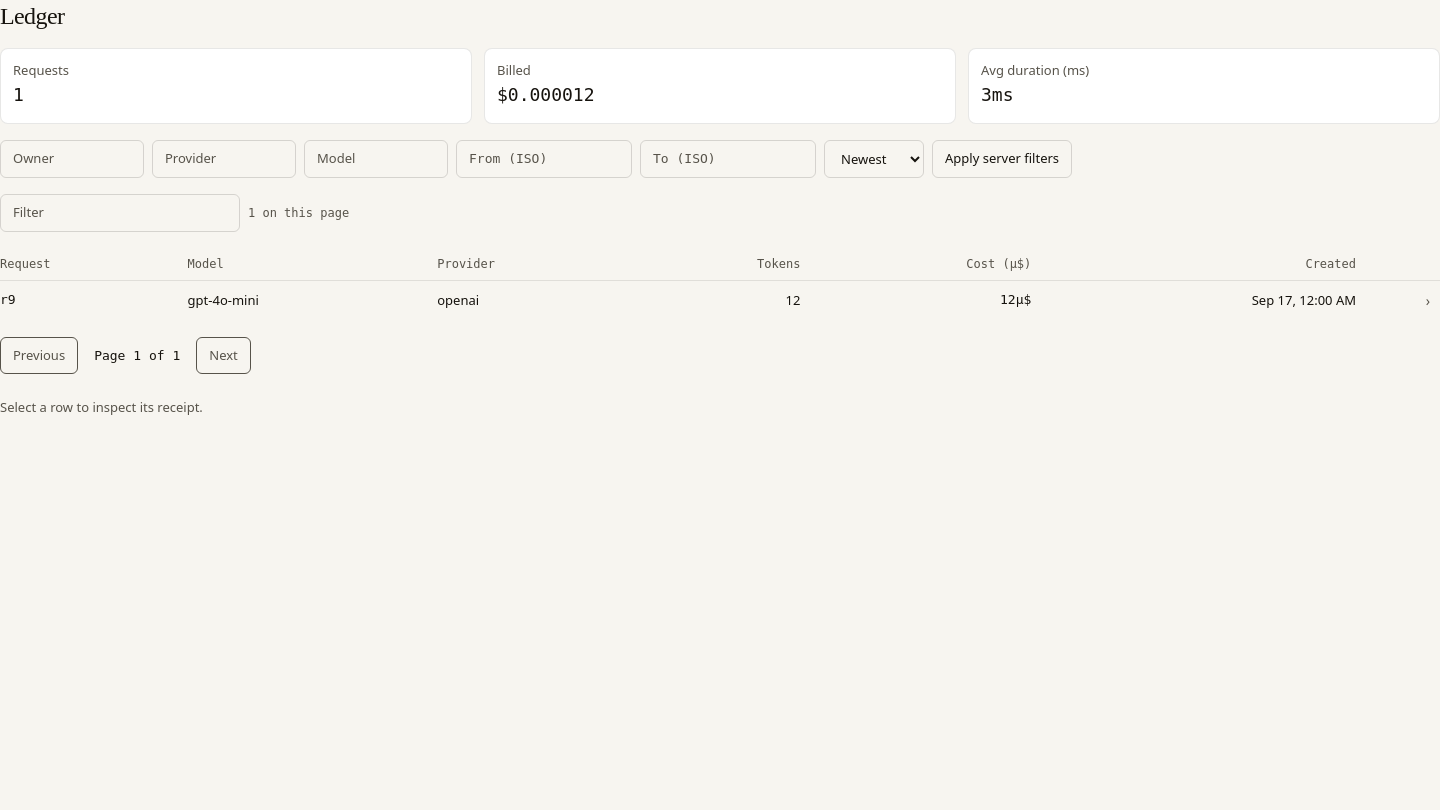
Scenario: LedgerPage › reports clipboard rejection inline
The width and height of the screenshot is (1440, 810).
Click the button named "inspect receipt r9".
click(1428, 300)  # box [1416,288,1439,312]
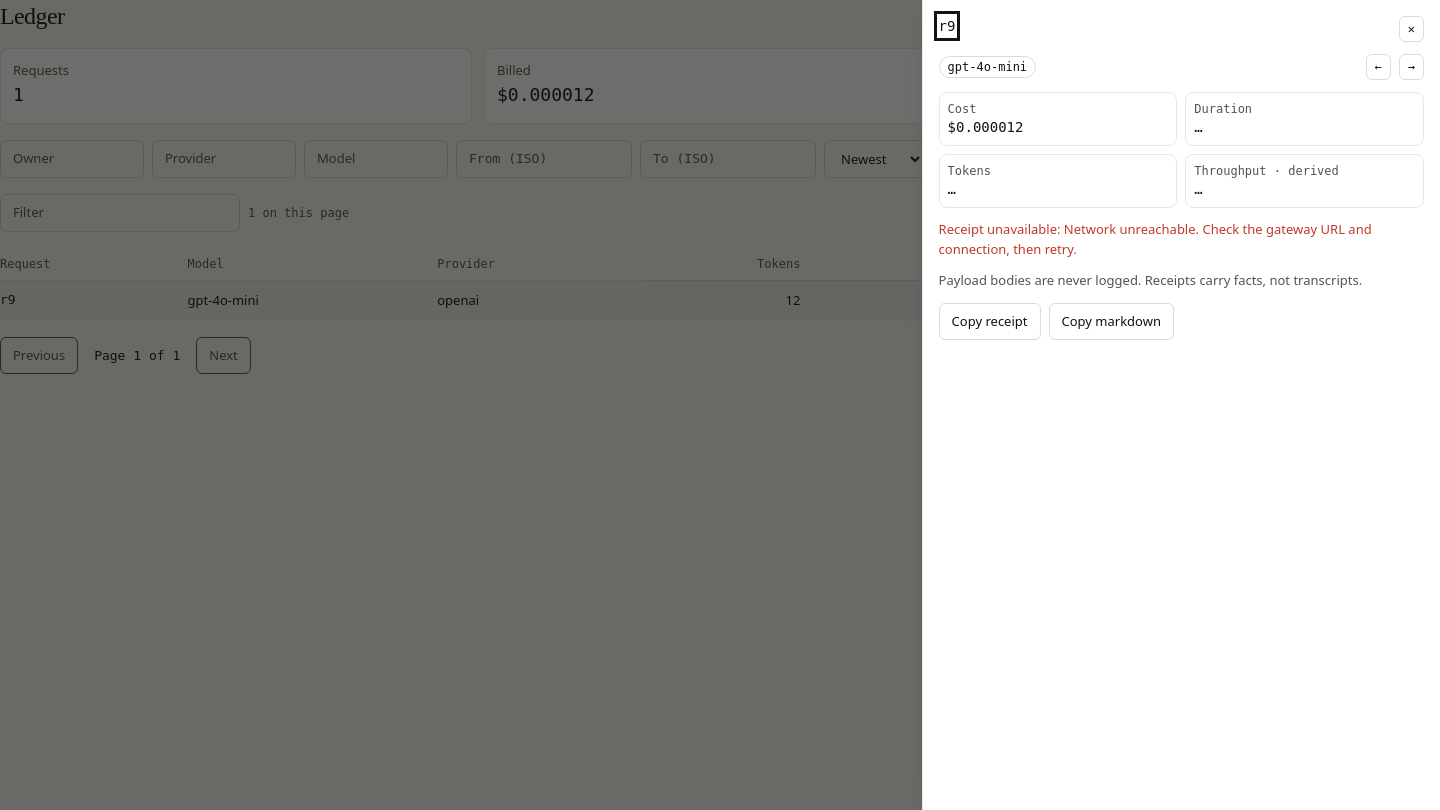
Click the button "Copy markdown".
click(1111, 321)  # box [1048,302,1174,340]
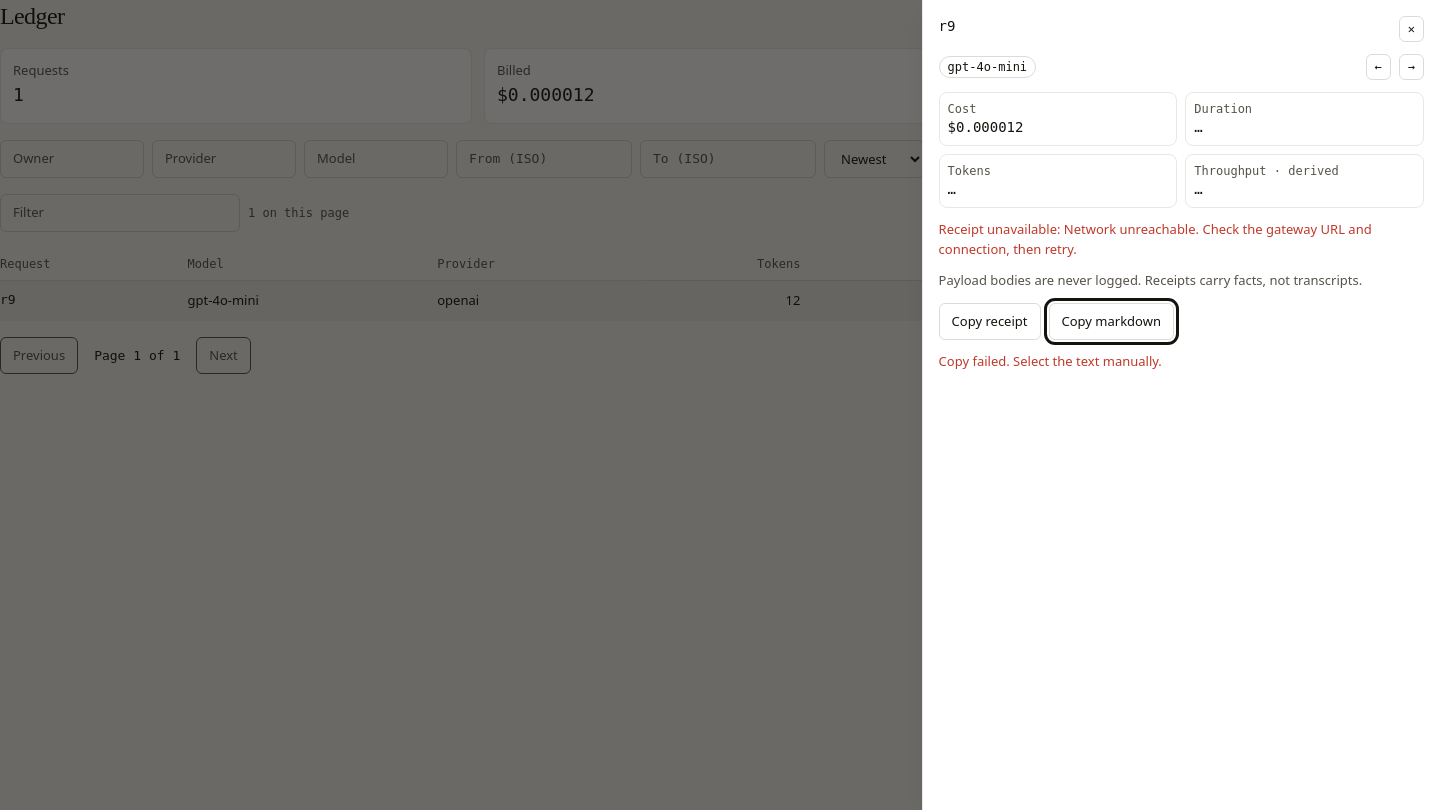
Check: the text "Copy failed. Select the text manually." is shown, box [939,352,1162,370]
